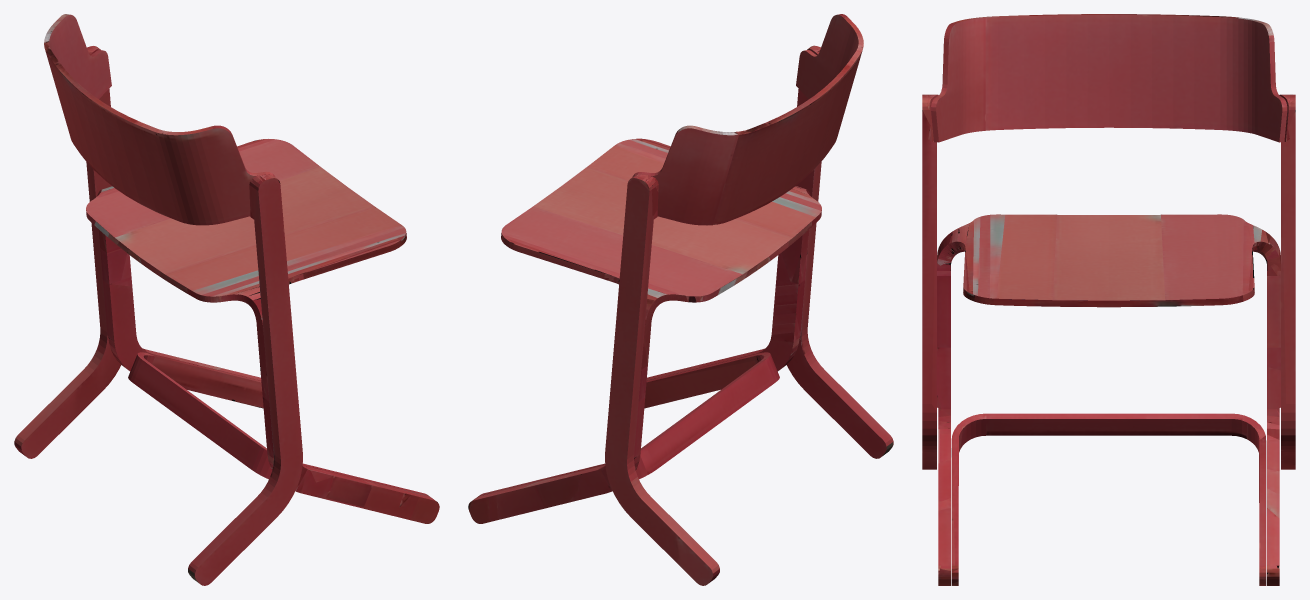
The picture shows the model from 3 angles, left to right: view 1: azimuth 30°, elevation 25°; view 2: azimuth 150°, elevation 25°; view 3: azimuth 270°, elevation 25°; orthographic projection. The views are drawn at different scales.
Parts seen in each view (by area): view 1: Node; view 2: Node; view 3: Node.
Part boxes in pixels (x1,y1,x2,y2): Node: (14, 14, 439, 585); Node: (468, 14, 893, 585); Node: (922, 14, 1295, 585).
Size of the model in its own units: 0.4427 by 0.7 by 0.5177.
Materials: 1 (1 with a texture image).
